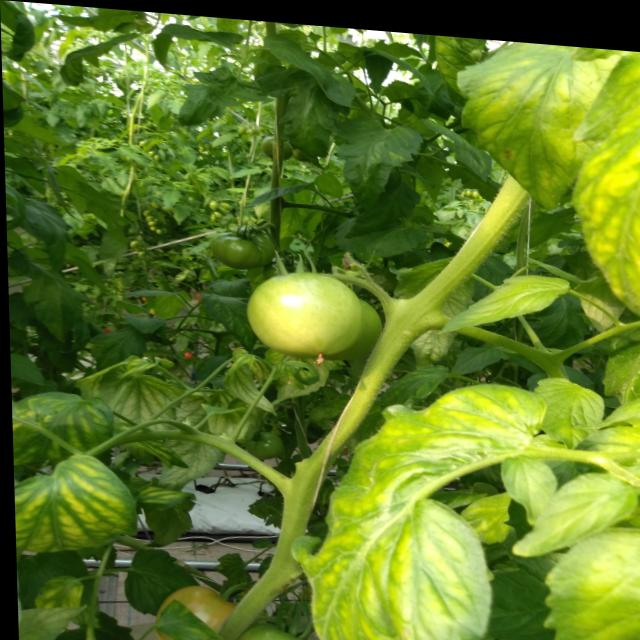yesil: (235, 246, 357, 379)
